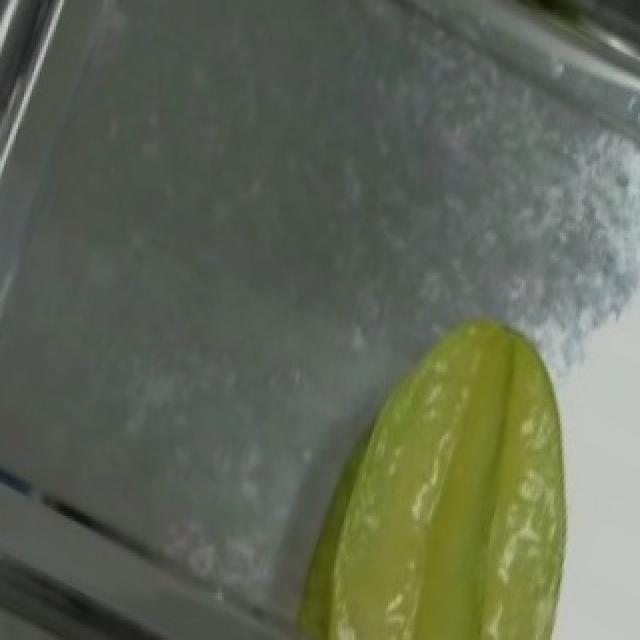fruit: (288, 273, 640, 640)
